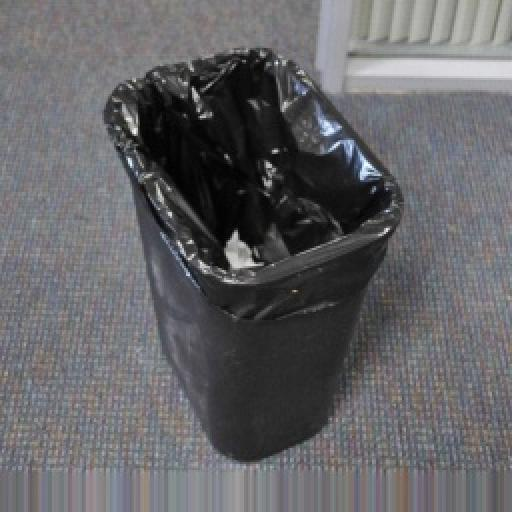trash-can: (106, 26, 412, 478)
